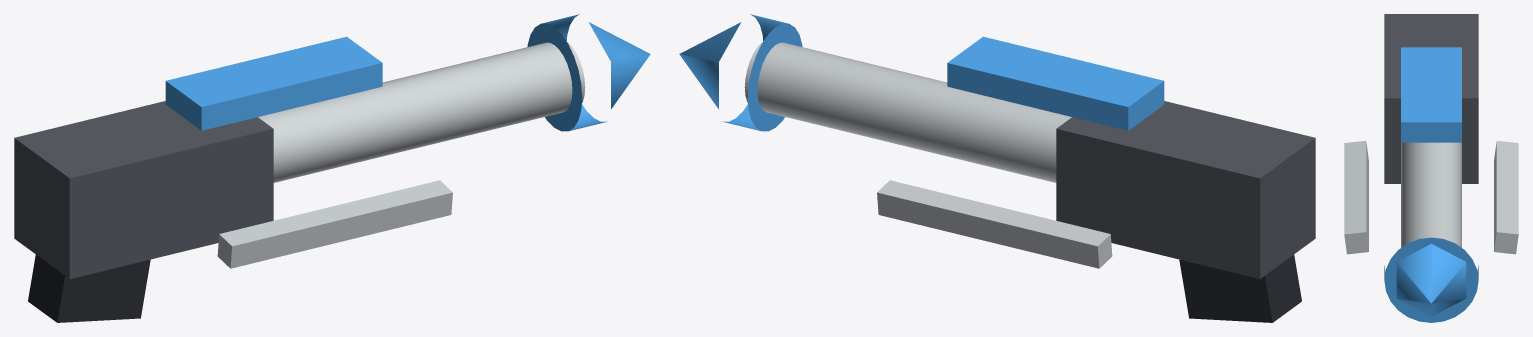
The model's file is shard-cannon.glb.
3 renders of one model, left to right at view 1: azimuth 30°, elevation 25°; view 2: azimuth 150°, elevation 25°; view 3: azimuth 270°, elevation 25°, orthographic. The views are drawn at different scales.
Parts seen in each view (by area): view 1: shard-cannon free asset preview part 3, shard-cannon free asset preview part 1, shard-cannon free asset preview part 5, shard-cannon free asset preview part 6, shard-cannon free asset preview part 4, shard-cannon free asset preview part 2, shard-cannon free asset preview part 8; view 2: shard-cannon free asset preview part 3, shard-cannon free asset preview part 1, shard-cannon free asset preview part 5, shard-cannon free asset preview part 7, shard-cannon free asset preview part 4, shard-cannon free asset preview part 2, shard-cannon free asset preview part 8; view 3: shard-cannon free asset preview part 3, shard-cannon free asset preview part 1, shard-cannon free asset preview part 5, shard-cannon free asset preview part 8, shard-cannon free asset preview part 6, shard-cannon free asset preview part 7, shard-cannon free asset preview part 2.
Part boxes in pixels (<box>): shard-cannon free asset preview part 3: <box>14,101,273,278</box>; shard-cannon free asset preview part 1: <box>258,42,585,182</box>; shard-cannon free asset preview part 5: <box>165,36,382,130</box>; shard-cannon free asset preview part 6: <box>217,180,452,268</box>; shard-cannon free asset preview part 4: <box>28,254,150,322</box>; shard-cannon free asset preview part 2: <box>527,14,607,131</box>; shard-cannon free asset preview part 8: <box>588,22,650,109</box>; shard-cannon free asset preview part 3: <box>1056,101,1315,278</box>; shard-cannon free asset preview part 1: <box>744,42,1071,182</box>; shard-cannon free asset preview part 5: <box>947,36,1164,130</box>; shard-cannon free asset preview part 7: <box>877,180,1112,268</box>; shard-cannon free asset preview part 4: <box>1179,254,1301,322</box>; shard-cannon free asset preview part 2: <box>722,14,802,131</box>; shard-cannon free asset preview part 8: <box>679,22,741,109</box>; shard-cannon free asset preview part 3: <box>1384,14,1478,183</box>; shard-cannon free asset preview part 1: <box>1401,142,1461,247</box>; shard-cannon free asset preview part 5: <box>1401,47,1461,142</box>; shard-cannon free asset preview part 8: <box>1396,244,1466,316</box>; shard-cannon free asset preview part 6: <box>1344,140,1368,254</box>; shard-cannon free asset preview part 7: <box>1494,140,1518,254</box>; shard-cannon free asset preview part 2: <box>1384,237,1478,322</box>.
Bounding box in the file's own units: 2.15 × 0.6741 × 0.629.
